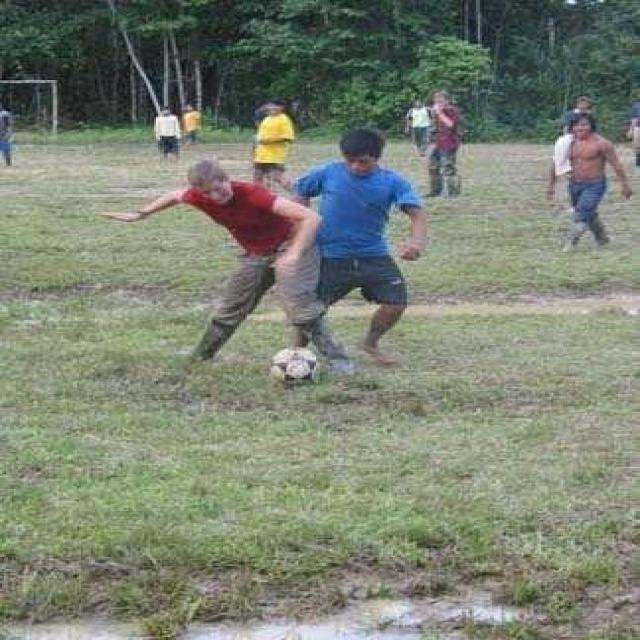ball: (271, 348, 319, 386)
